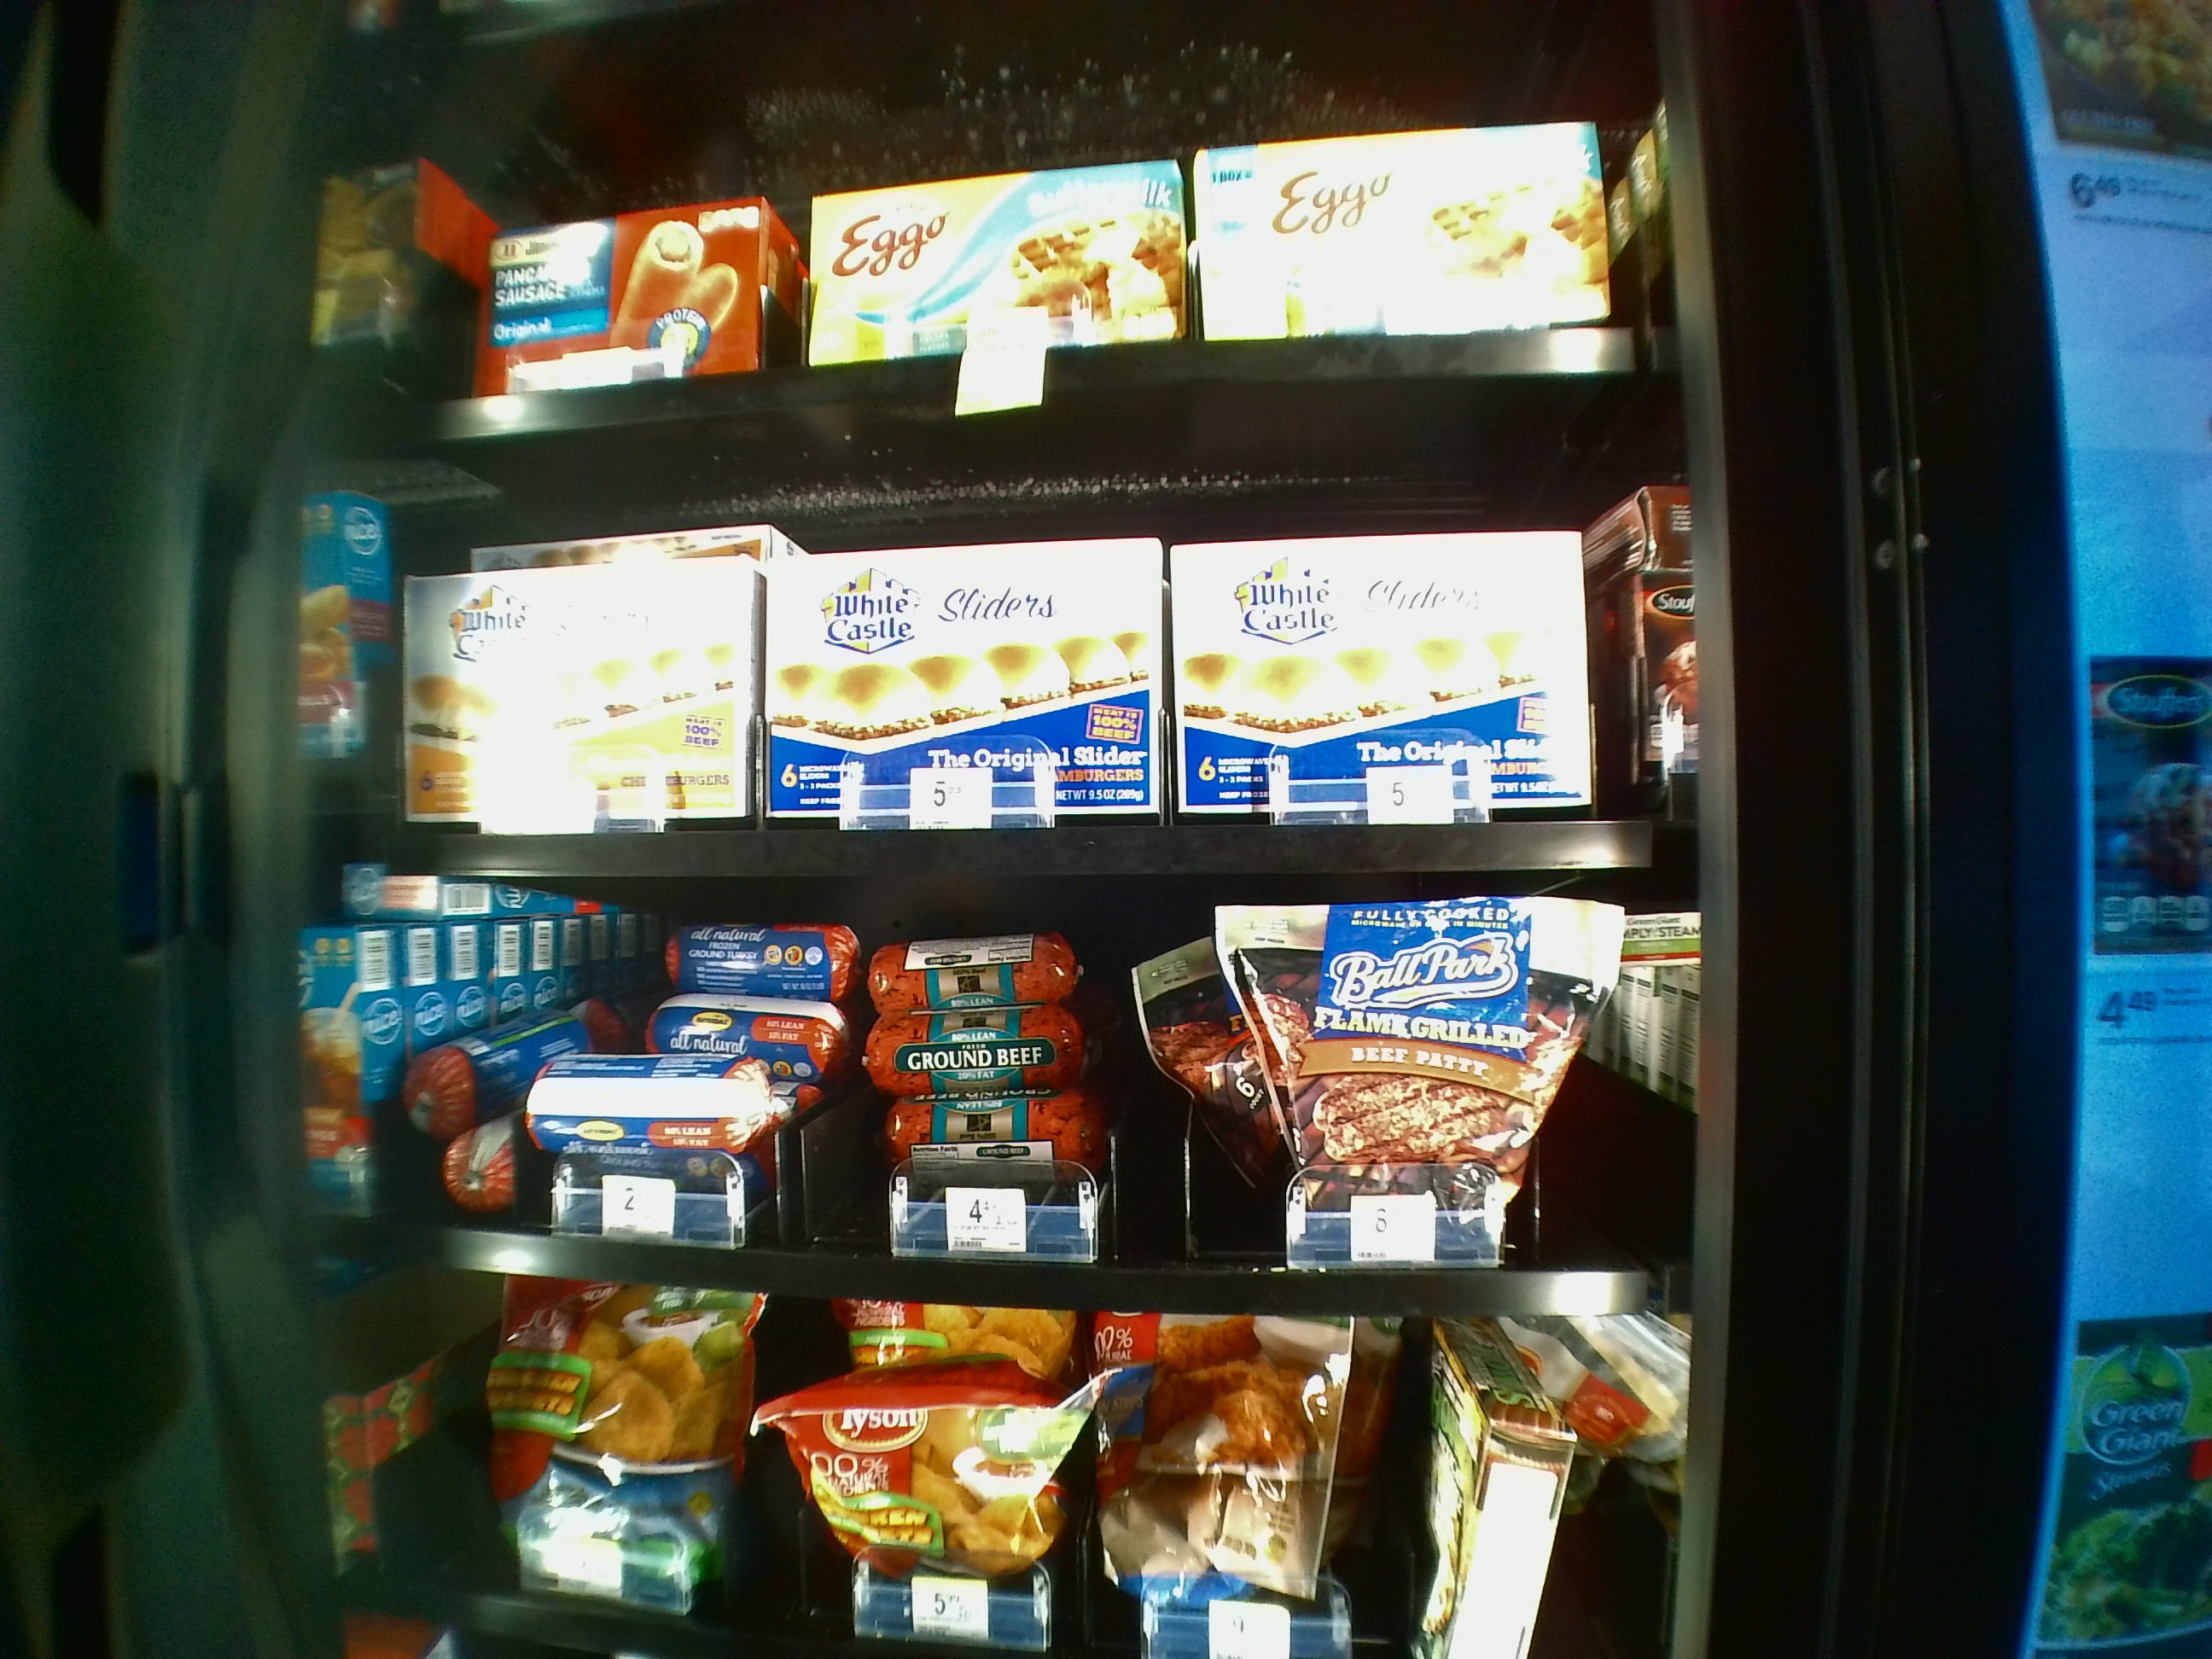shelf: (329, 443, 1676, 877), (329, 892, 1679, 1324)
